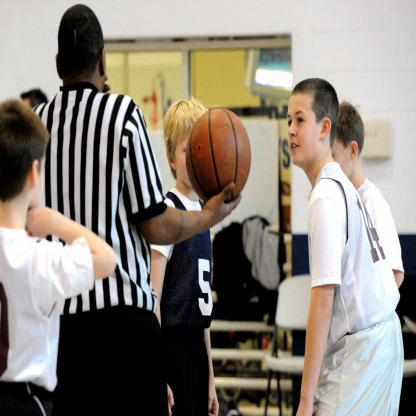Ball: (186, 105, 250, 203)
